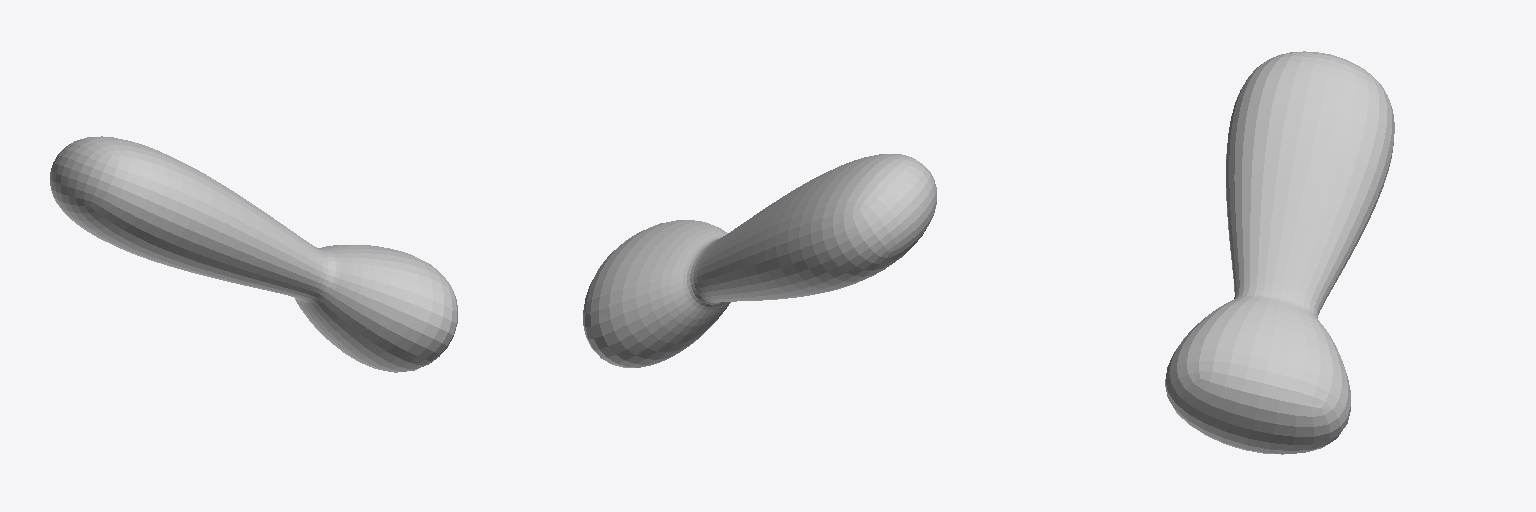
File: toadBrazo1.obj
The picture shows the model from 3 angles: view 1: azimuth 30°, elevation 25°; view 2: azimuth 150°, elevation 25°; view 3: azimuth 270°, elevation 25°; orthographic projection.
Visible parts, largest first — view 1: Bracitos; view 2: Bracitos; view 3: Bracitos.
Part boxes in pixels (bbox=[...]): Bracitos: bbox=[50, 136, 457, 372]; Bracitos: bbox=[583, 154, 936, 367]; Bracitos: bbox=[1165, 51, 1394, 454].
Size of the model in its own units: 2.08 by 1.53 by 1.19.